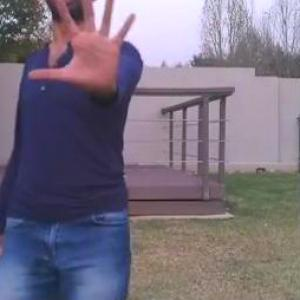follow_hand: (23, 0, 141, 94)
